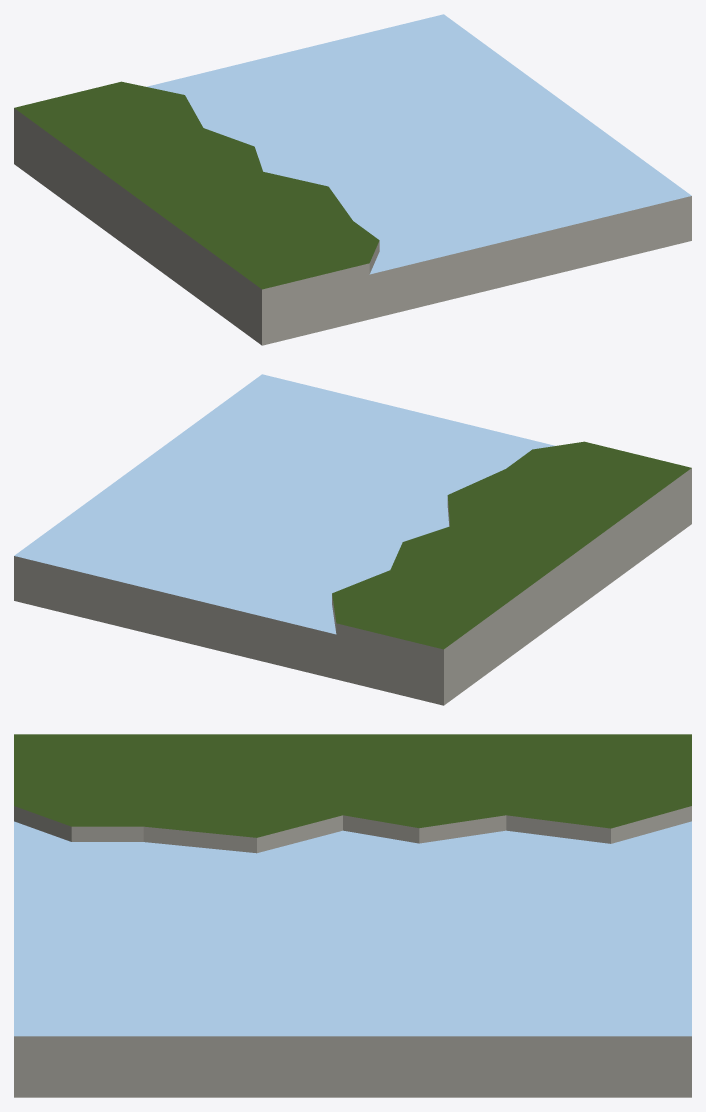
Rendered from Terrain_Tile_Grass_Rock_Water_Bank_02.fbx.
3 views of the same model, one above another, from view 1: azimuth 30°, elevation 25°; view 2: azimuth 150°, elevation 25°; view 3: azimuth 270°, elevation 25° (orthographic). The views are drawn at different scales.
Parts seen in each view (by area): view 1: Terrain_Tile_Grass_Rock_Water_Bank_02; view 2: Terrain_Tile_Grass_Rock_Water_Bank_02; view 3: Terrain_Tile_Grass_Rock_Water_Bank_02.
Part boxes in pixels (box(x1,y1,x2,y2)): Terrain_Tile_Grass_Rock_Water_Bank_02: box(14, 14, 691, 345); Terrain_Tile_Grass_Rock_Water_Bank_02: box(14, 374, 691, 705); Terrain_Tile_Grass_Rock_Water_Bank_02: box(14, 734, 691, 1097).
Size of the model in its own units: 126 by 15.75 by 126.
